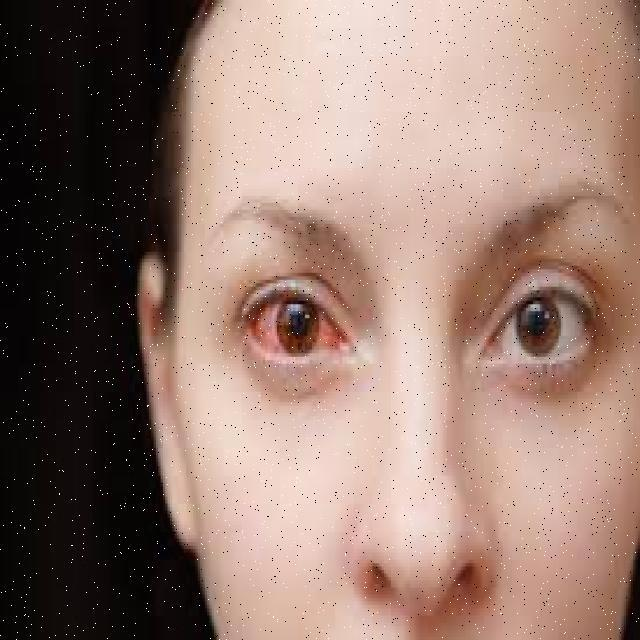Conjunctivitis: (250, 305, 344, 360)
